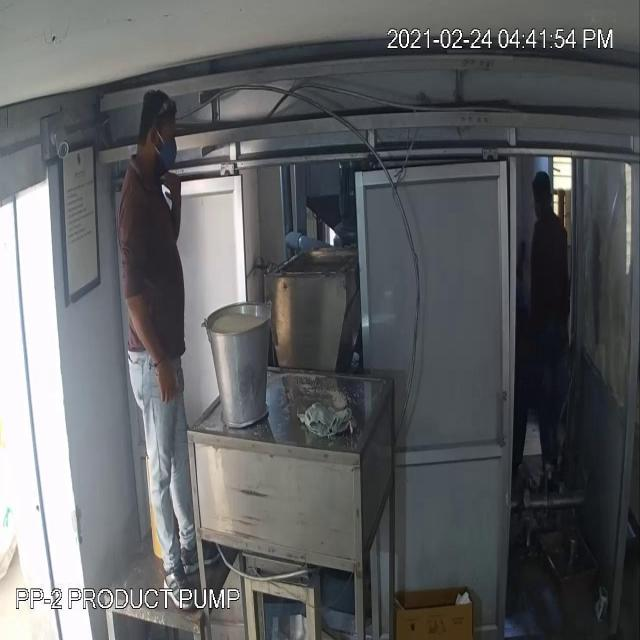no-helmet: (130, 80, 182, 150)
